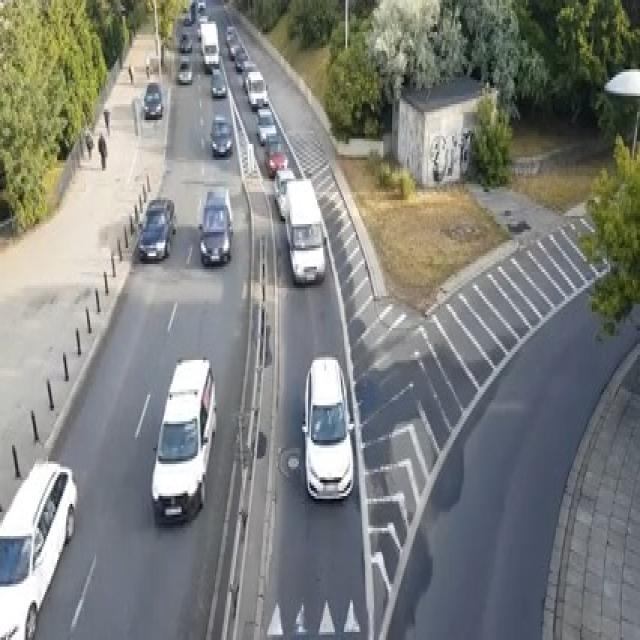car: (0, 456, 77, 637), (150, 355, 217, 525), (300, 355, 354, 501), (284, 176, 326, 285), (197, 184, 233, 267), (137, 198, 174, 262), (209, 112, 233, 157), (263, 133, 288, 176), (274, 168, 294, 219), (245, 70, 267, 110), (256, 107, 276, 144), (143, 83, 162, 117), (210, 67, 226, 96), (240, 59, 256, 88), (178, 56, 192, 83), (197, 13, 209, 40), (234, 48, 248, 69), (228, 40, 242, 59), (179, 32, 192, 51), (225, 24, 236, 43), (197, 0, 206, 11), (184, 13, 192, 24)
